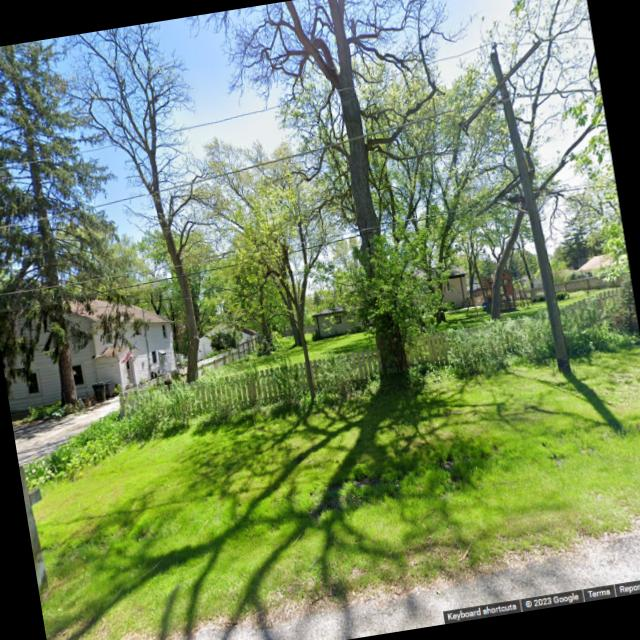House: (0, 287, 185, 415), (307, 264, 473, 344), (578, 251, 632, 280)
